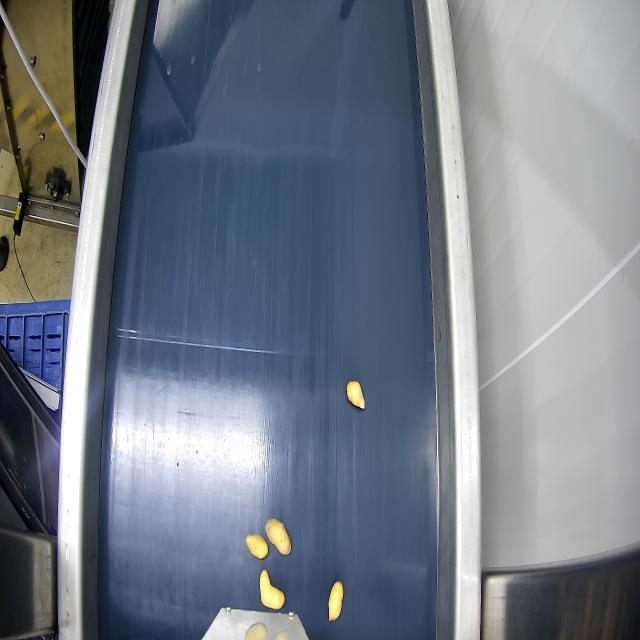Baby Potato: (260, 569, 284, 609), (265, 519, 290, 555), (328, 582, 343, 621), (246, 534, 268, 559), (346, 380, 364, 410)
